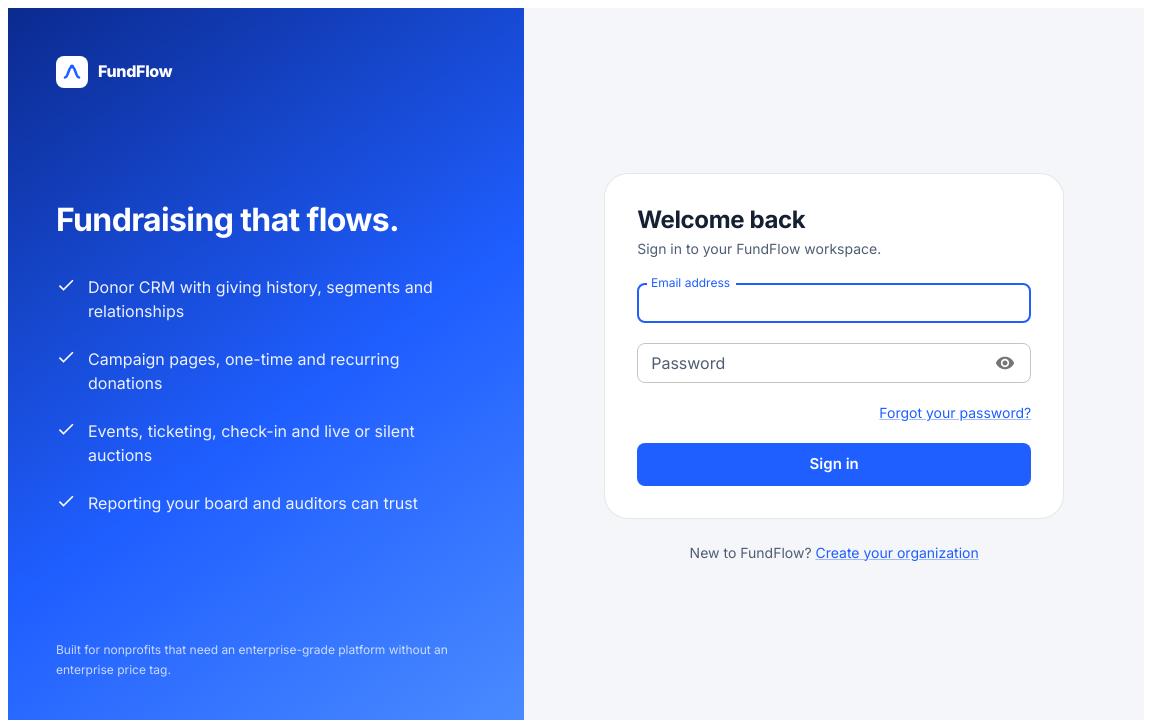
it: LoginPage › explains a lockout without offering a resend
Type "ada@hope.org" into the field labelled "Email address" at (834, 303), box [637, 283, 1031, 323]
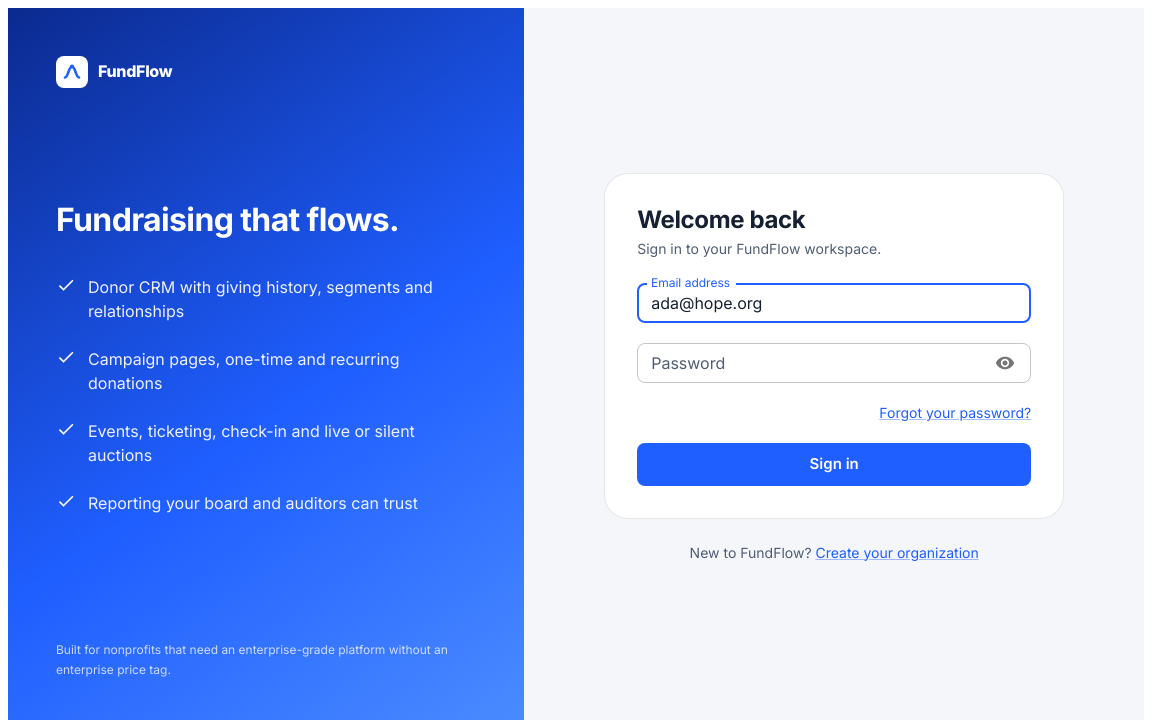
Type "whatever" into the password field labelled "Password" at (810, 363), box [637, 343, 982, 383]
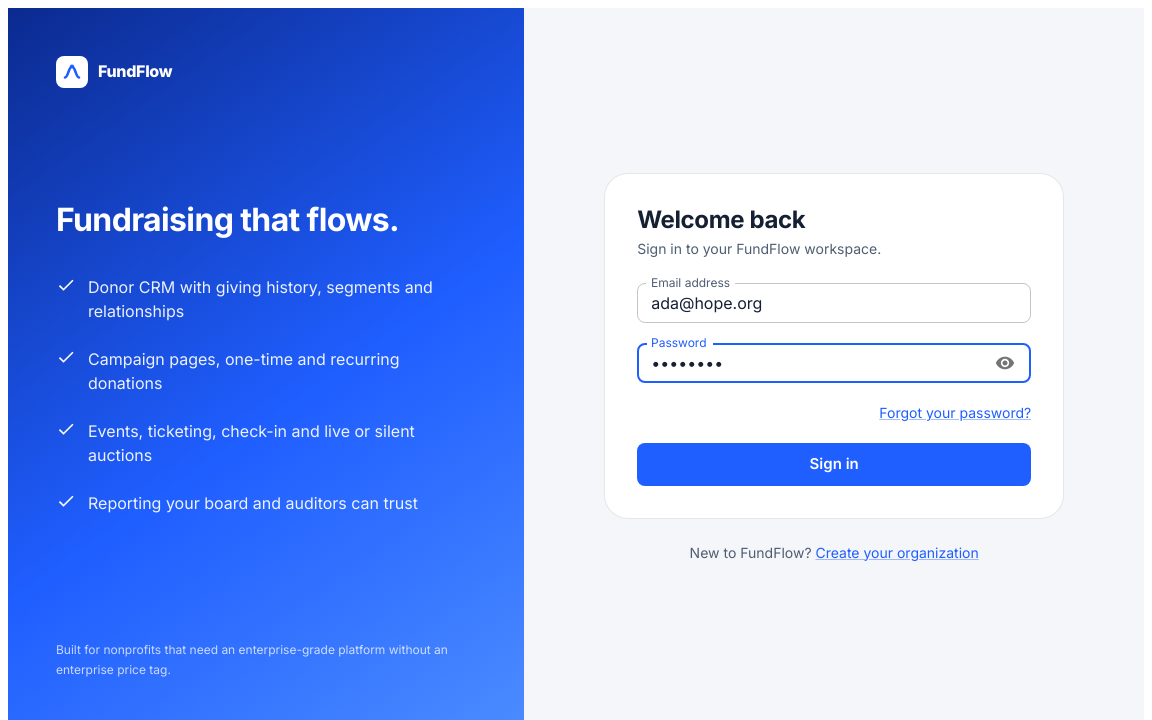
Click the button "Sign in" at (834, 464), box [637, 443, 1031, 486]
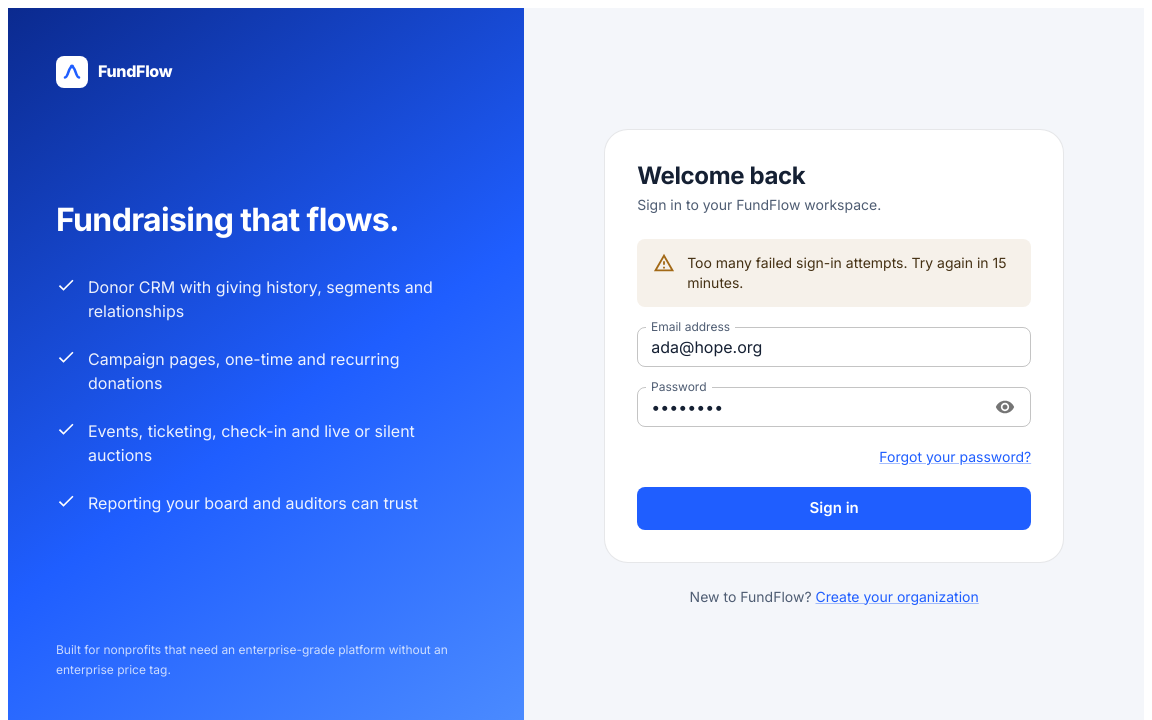
Expected: the message shows "Try again in 15 minutes.", [687, 254, 1007, 291]
